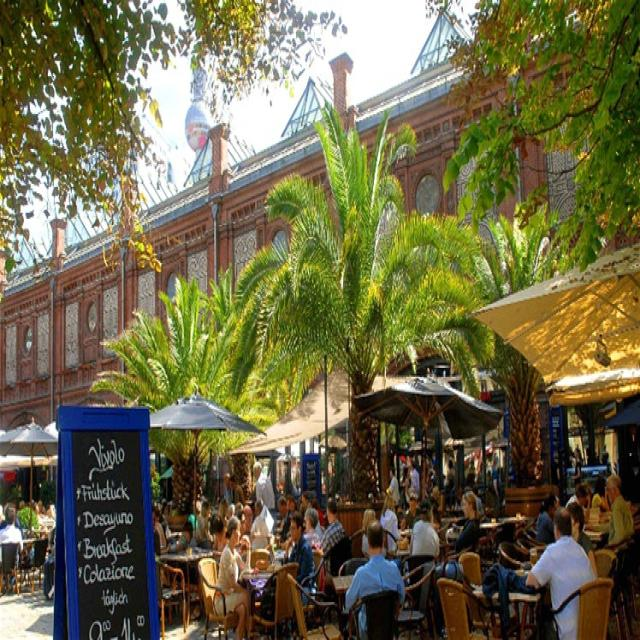body: (524, 508, 596, 638), (344, 520, 406, 638), (214, 514, 257, 638), (282, 511, 316, 640), (439, 489, 482, 584), (222, 508, 252, 629), (360, 506, 404, 578), (564, 497, 599, 582), (605, 473, 636, 553), (316, 497, 346, 575), (378, 473, 404, 553), (170, 518, 200, 587), (252, 461, 278, 536), (589, 474, 617, 543), (410, 499, 440, 561), (564, 479, 595, 533), (0, 505, 23, 570), (536, 494, 560, 546), (194, 498, 217, 552), (151, 498, 173, 554), (568, 444, 586, 509), (301, 506, 321, 552), (276, 494, 294, 543), (490, 455, 502, 526), (29, 497, 56, 528), (252, 497, 274, 534), (468, 482, 486, 527), (403, 491, 423, 531), (445, 458, 458, 510), (214, 500, 251, 517), (597, 441, 610, 489), (388, 467, 402, 508), (231, 473, 246, 508), (407, 459, 420, 497), (431, 484, 444, 516), (222, 471, 234, 505), (299, 488, 316, 506), (288, 497, 300, 520), (0, 500, 9, 526), (16, 497, 28, 511), (468, 459, 476, 473), (463, 483, 472, 494)
